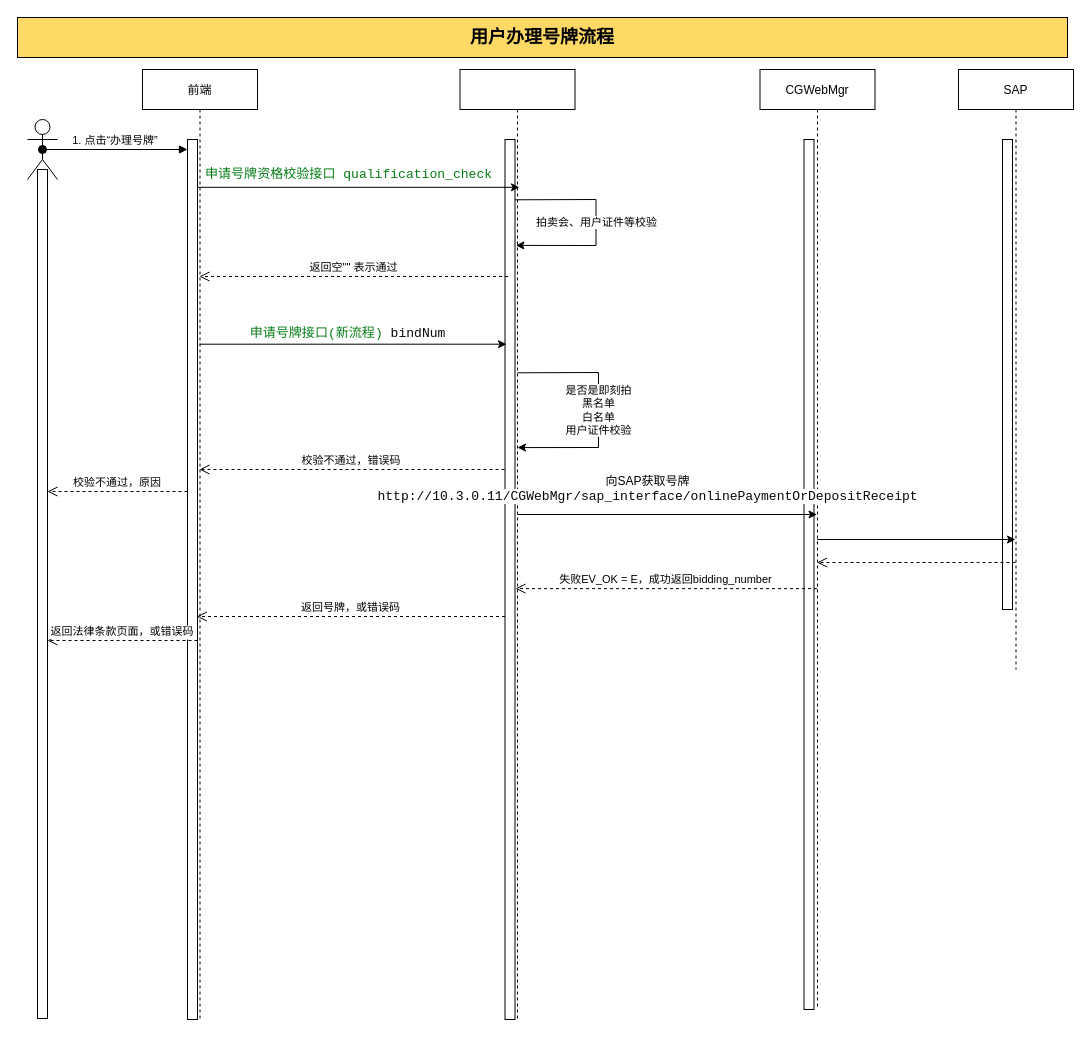
Some shapes in this 1091 by 1037 pixel diagram are drawn without their labels. Here are the shapes that lost their labels. From the top down, the centre of each, then its label:
At point (42, 149): "Actor".
At point (517, 544): "auction_syn".
